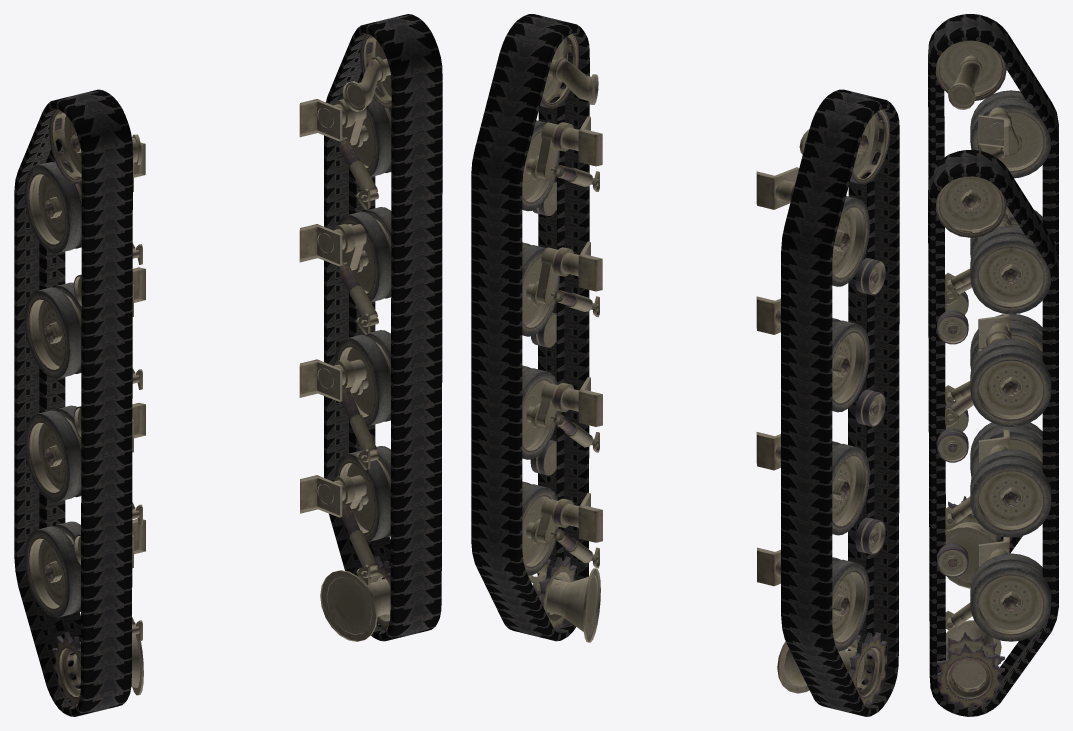
File: Chassis.glb
The picture shows the model from 3 angles, left to right: view 1: azimuth 30°, elevation 25°; view 2: azimuth 150°, elevation 25°; view 3: azimuth 270°, elevation 25°; orthographic projection. The views are drawn at different scales.
Parts seen in each view (by area): view 1: set_3_group_0, set_2_group_0, set_0_group_0, set_1_group_0; view 2: set_3_group_0, set_2_group_0, set_0_group_0, set_1_group_0; view 3: set_0_group_0, set_2_group_0, set_1_group_0, set_3_group_0.
Boxes of the visible parts, x1,y1,x2,y2 form: set_3_group_0: (14, 89, 132, 716); set_2_group_0: (324, 14, 442, 641); set_0_group_0: (299, 33, 391, 641); set_1_group_0: (24, 109, 145, 706); set_3_group_0: (781, 89, 899, 716); set_2_group_0: (471, 14, 589, 641); set_0_group_0: (522, 33, 602, 642); set_1_group_0: (756, 109, 889, 705); set_0_group_0: (935, 176, 1051, 707); set_2_group_0: (928, 150, 1058, 716); set_1_group_0: (935, 40, 1051, 588); set_3_group_0: (928, 14, 1058, 553).
Size of the model in its own units: 2.96 by 4.82 by 1.04.
4 materials, 4 textured.
